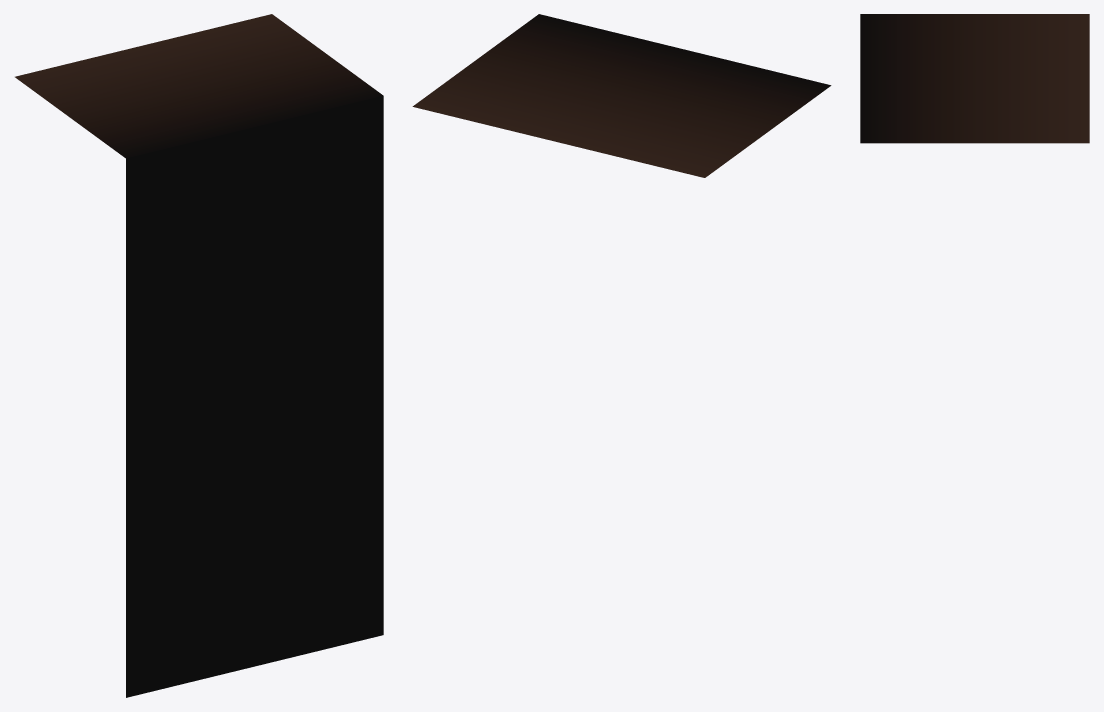
The picture shows the model from 3 angles, left to right: view 1: azimuth 30°, elevation 25°; view 2: azimuth 150°, elevation 25°; view 3: azimuth 270°, elevation 25°; orthographic projection. The views are drawn at different scales.
Bounding box in the file's own units: 1 × 2 × 0.75.
Materials: 1 (1 with a texture image).
